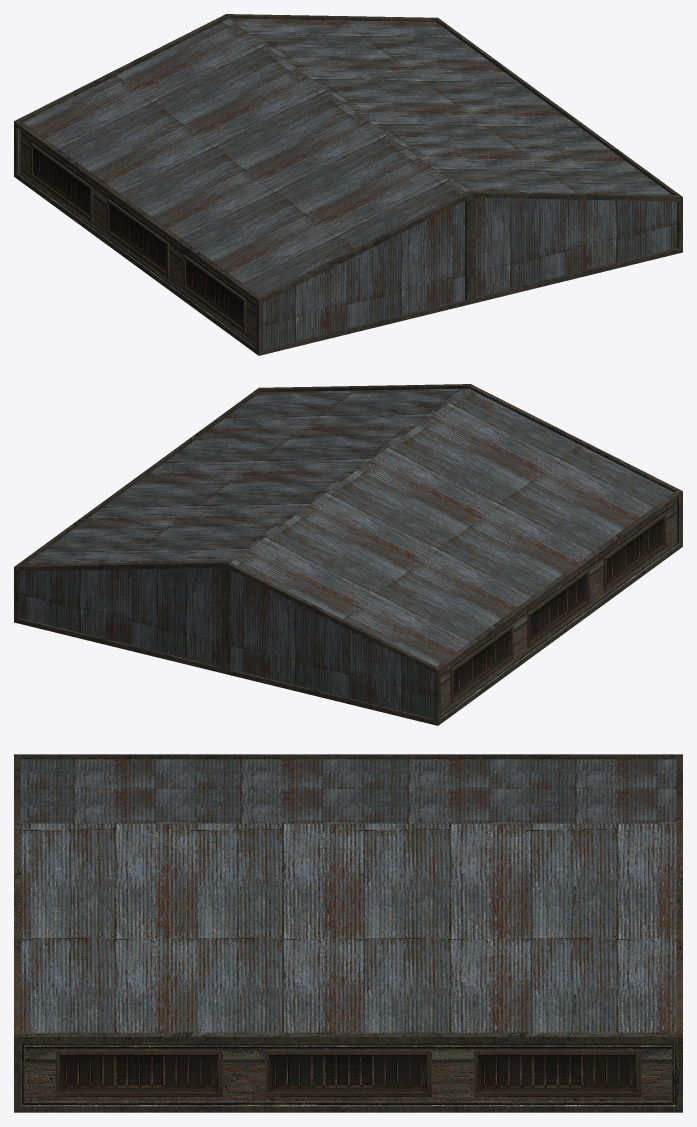
The model's file is roof_mh_4_a_2.glb.
The picture shows the model from 3 angles, top to bottom: view 1: azimuth 30°, elevation 25°; view 2: azimuth 150°, elevation 25°; view 3: azimuth 270°, elevation 25°; orthographic projection. The views are drawn at different scales.
Visible parts, largest first — view 1: roof_mh_4_a_2; view 2: roof_mh_4_a_2; view 3: roof_mh_4_a_2.
Boxes of the visible parts, left/top/right/bottom form: roof_mh_4_a_2: left=14, top=14, right=682, bottom=355; roof_mh_4_a_2: left=14, top=384, right=682, bottom=725; roof_mh_4_a_2: left=14, top=754, right=682, bottom=1112.
Size of the model in its own units: 8 by 2 by 8.
Materials: 6 (6 with a texture image).
